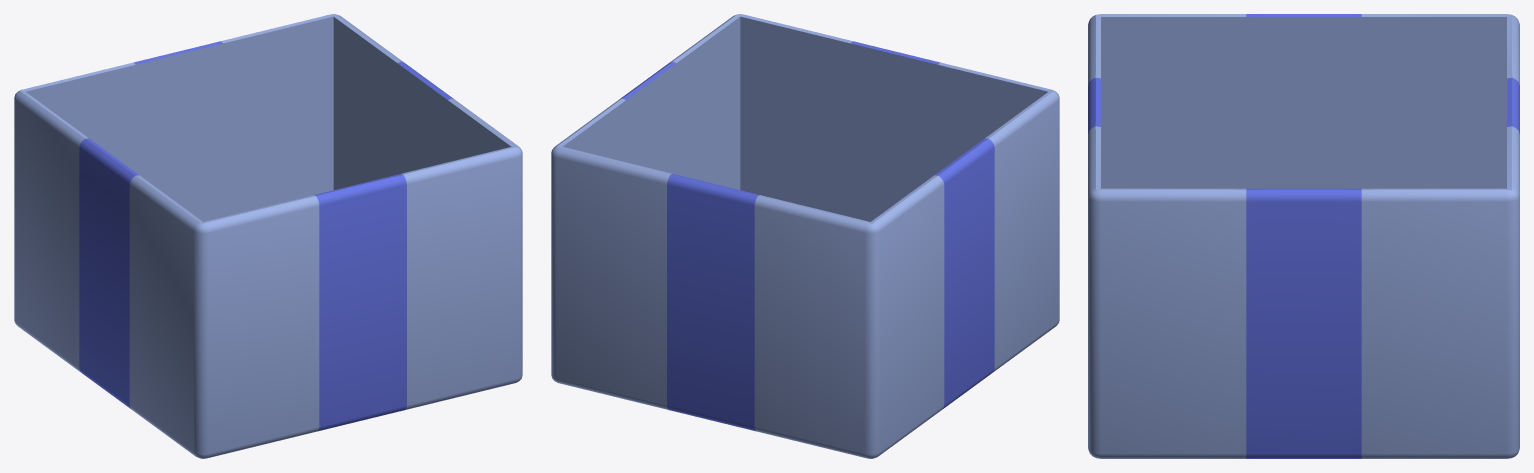
The picture shows the model from 3 angles, left to right: view 1: azimuth 30°, elevation 25°; view 2: azimuth 150°, elevation 25°; view 3: azimuth 270°, elevation 25°; orthographic projection. The views are drawn at different scales.
Parts seen in each view (by area): view 1: Box; view 2: Box; view 3: Box.
Part boxes in pixels (box(x1,y1,x2,y2)): Box: box(14, 14, 522, 458); Box: box(551, 14, 1059, 458); Box: box(1088, 14, 1519, 458).
Size of the model in its own units: 0.2 by 0.1379 by 0.2.
